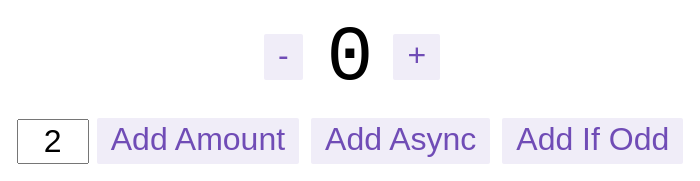
Test: Counter component / change increment amount value
Replace the text in the field with test id "incrementAmount" with "4" at (53, 141), box x1=17 y1=118 x2=89 y2=164
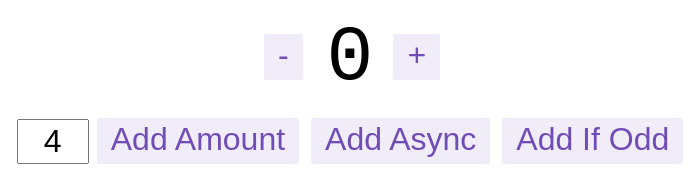
Click the button with test id "incrementByAmount".
click(198, 141)  # box x1=97 y1=118 x2=299 y2=164
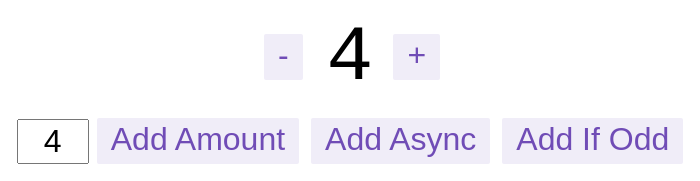
Now the text with test id "counter" reads "4", box x1=327 y1=14 x2=373 y2=102
